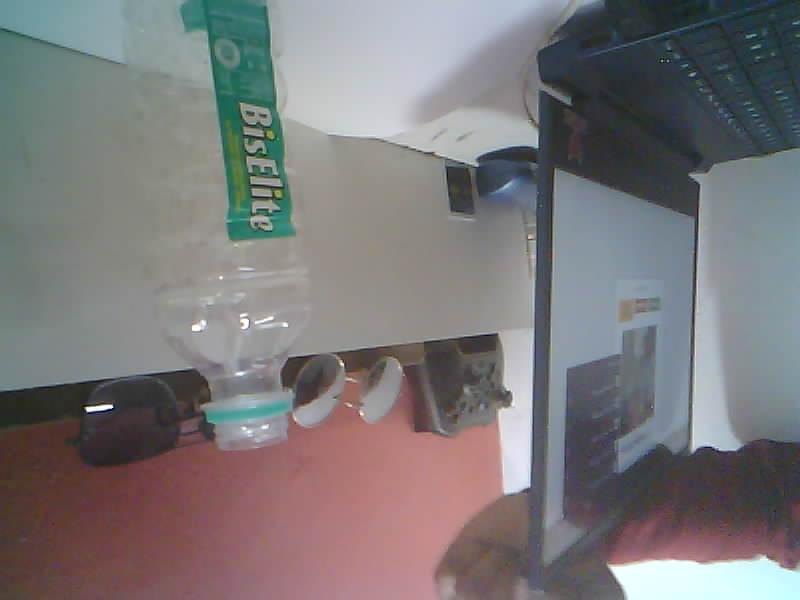non-biodegradable: (123, 0, 311, 449)
